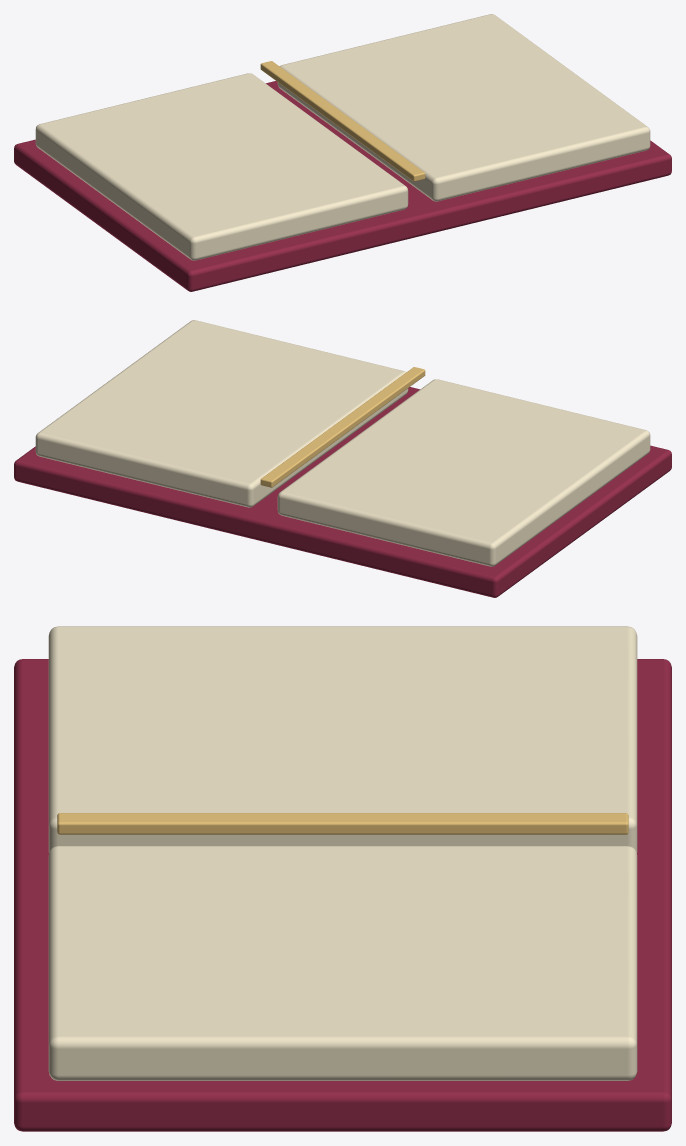
The model's file is royal-court-and-throne-palace-open-decree-folio-bab4734c__29400.glb.
3 renders of one model, top to bottom at view 1: azimuth 30°, elevation 25°; view 2: azimuth 150°, elevation 25°; view 3: azimuth 270°, elevation 25°, orthographic. The views are drawn at different scales.
Visible parts, largest first — view 1: open-decree-folio; view 2: open-decree-folio; view 3: open-decree-folio.
Boxes of the visible parts, x1,y1,x2,y2 form: open-decree-folio: [14, 14, 671, 291]; open-decree-folio: [14, 320, 671, 597]; open-decree-folio: [14, 626, 671, 1131].
Bounding box in the file's own units: 0.6 × 0.062 × 0.38.
